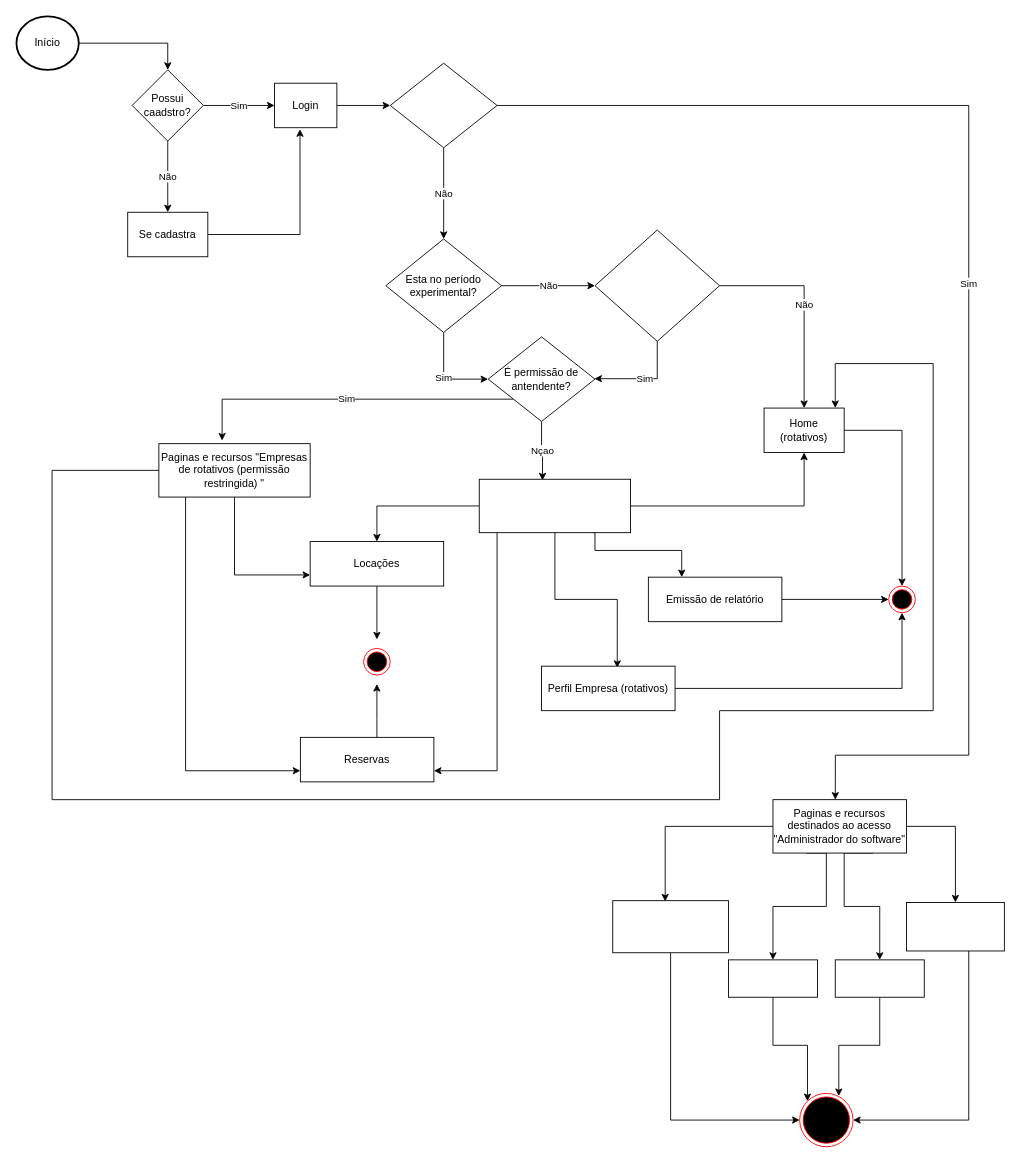
This 1020x1162 diagram has some shape labels left out. The shapes that lost their labels are listed below. From the top down, each one's centre as x and y in pixels, then its label:
(443,105): É administrador?
(657,285): Empresa esta com pagamentos em dia?
(554,505): Paginas e recursos "Empresas de rotativos (permissão total) "
(670,926): Formas de pagamento
(955,926): Perfil Empresa
(772,978): Home
(879,978): Clientes
